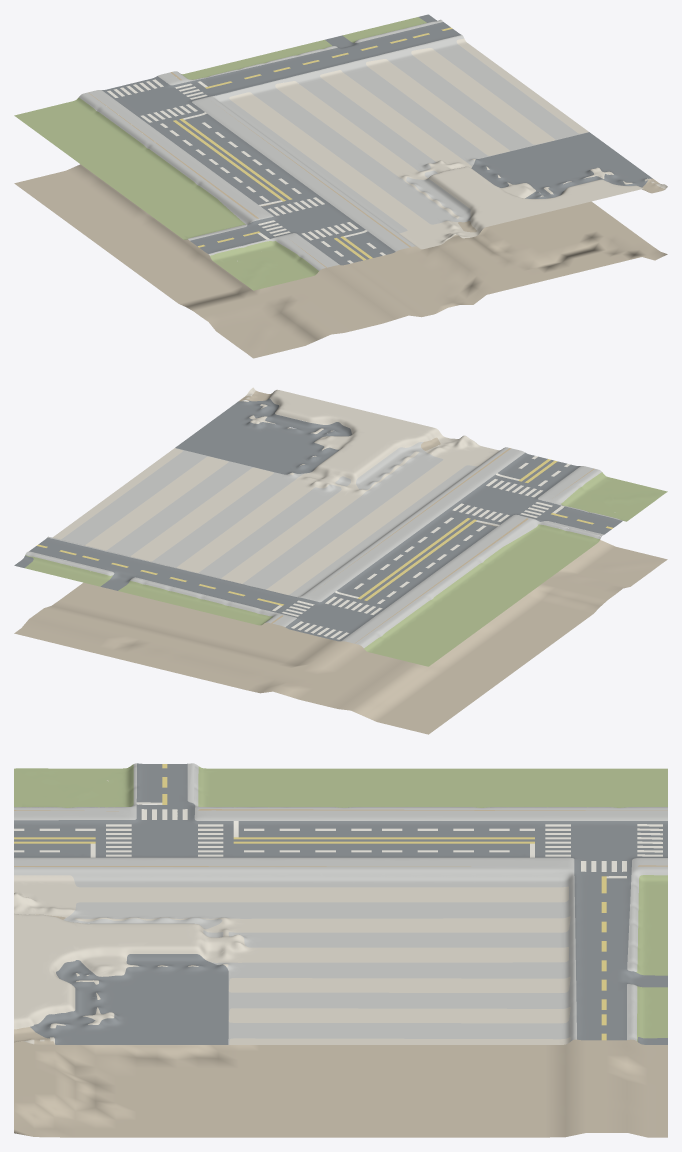
3 renders of one model, top to bottom at view 1: azimuth 30°, elevation 25°; view 2: azimuth 150°, elevation 25°; view 3: azimuth 270°, elevation 25°, orthographic. The views are drawn at different scales.
Parts seen in each view (by area): view 1: s_-9_-1__soil, s_-9_-1__stone_paving, s_-9_-1__asphalt, s_-9_-1__paving, s_-9_-1__grass, s_-9_-1__white_marking, s_-9_-1__yellow_marking, s_-9_-1__timber_deck; view 2: s_-9_-1__soil, s_-9_-1__stone_paving, s_-9_-1__asphalt, s_-9_-1__paving, s_-9_-1__grass, s_-9_-1__white_marking, s_-9_-1__yellow_marking, s_-9_-1__timber_deck; view 3: s_-9_-1__soil, s_-9_-1__stone_paving, s_-9_-1__asphalt, s_-9_-1__paving, s_-9_-1__grass, s_-9_-1__white_marking, s_-9_-1__yellow_marking, s_-9_-1__timber_deck.
Part boxes in pixels (x1,y1,x2,y2): s_-9_-1__soil: (14,164,667,358); s_-9_-1__stone_paving: (79,19,588,270); s_-9_-1__asphalt: (102,14,652,265); s_-9_-1__paving: (229,38,667,261); s_-9_-1__grass: (14,17,426,290); s_-9_-1__white_marking: (107,79,385,263); s_-9_-1__yellow_marking: (173,27,452,260); s_-9_-1__timber_deck: (88,72,410,267); s_-9_-1__soil: (14,390,667,734); s_-9_-1__stone_paving: (25,442,622,647); s_-9_-1__asphalt: (14,398,622,641); s_-9_-1__paving: (52,387,615,595); s_-9_-1__grass: (25,472,667,666); s_-9_-1__white_marking: (272,456,570,639); s_-9_-1__yellow_marking: (36,459,612,605); s_-9_-1__timber_deck: (271,448,594,643); s_-9_-1__soil: (14,914,667,1137); s_-9_-1__stone_paving: (14,763,667,1044); s_-9_-1__asphalt: (14,763,667,1044); s_-9_-1__paving: (14,780,570,1044); s_-9_-1__grass: (14,764,667,1041); s_-9_-1__white_marking: (14,802,662,878); s_-9_-1__yellow_marking: (14,764,606,1040); s_-9_-1__timber_deck: (14,809,667,866).
Bounding box in the file's own units: 128 × 22.03 × 128.
